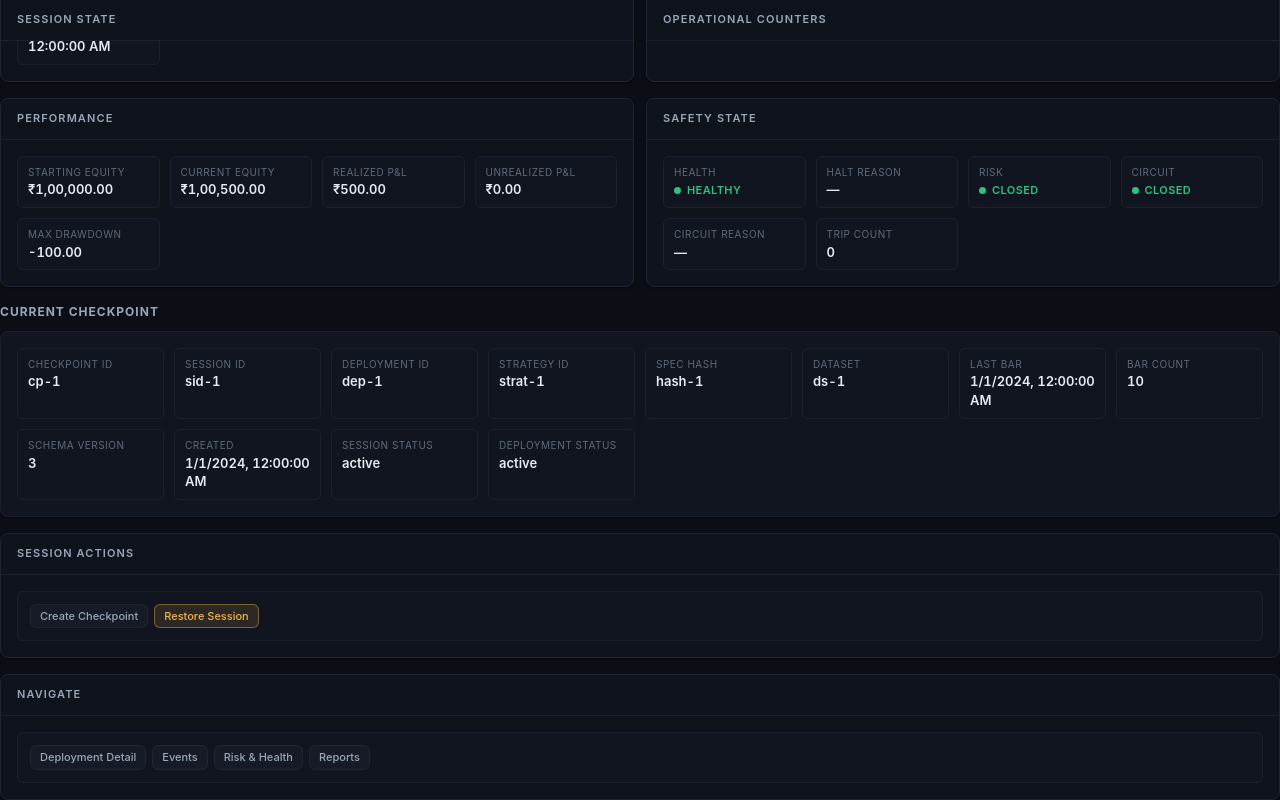
Test: Paper Trading Frontend › PaperSessions › shows restore confirmation dialog
(page scrolled)
Click the button "Restore Session" at (206, 616), box left=154, top=604, right=259, bottom=628
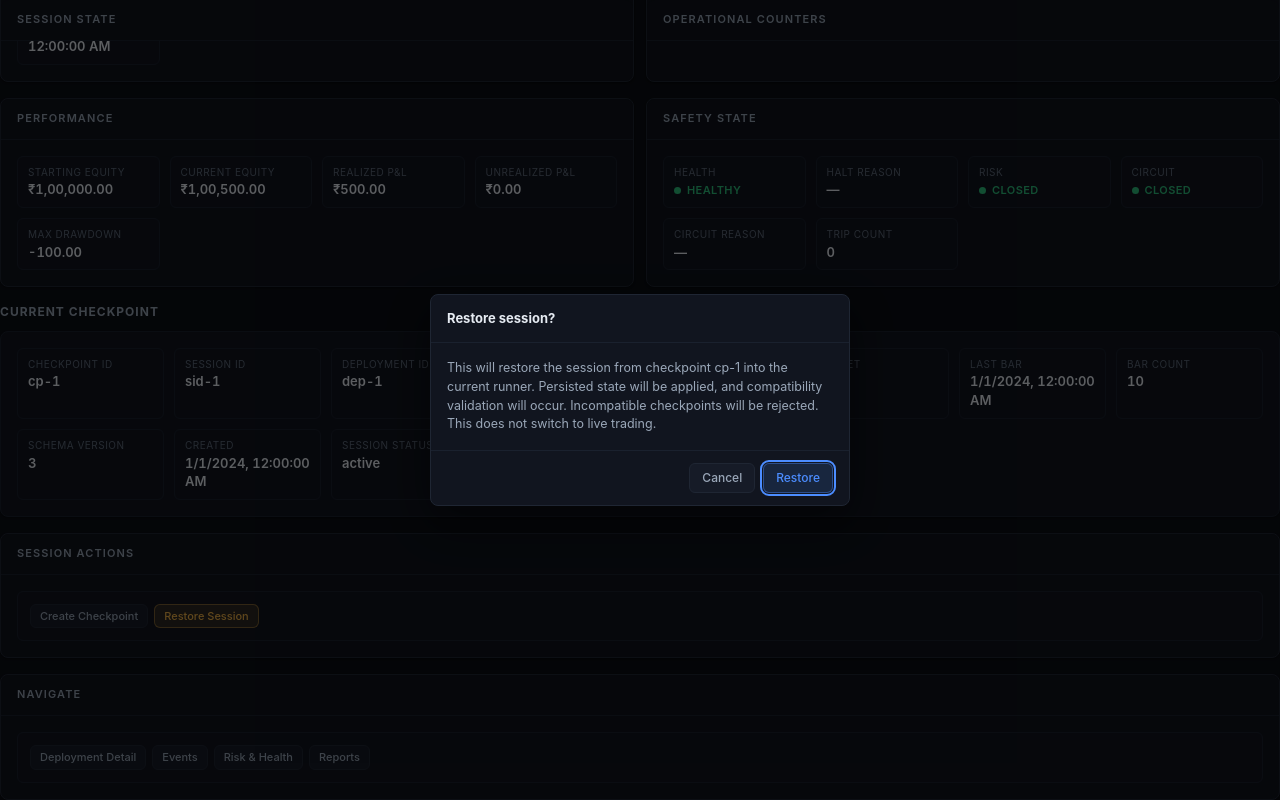
Check: the text "Restore session?" is shown, box left=431, top=295, right=849, bottom=343
